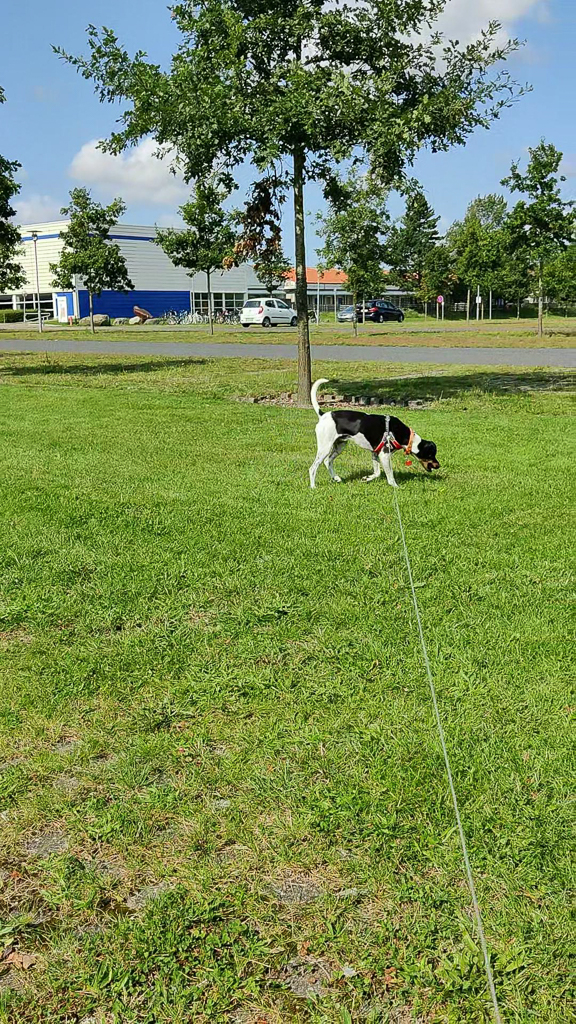Dog: (301, 373, 454, 493)
